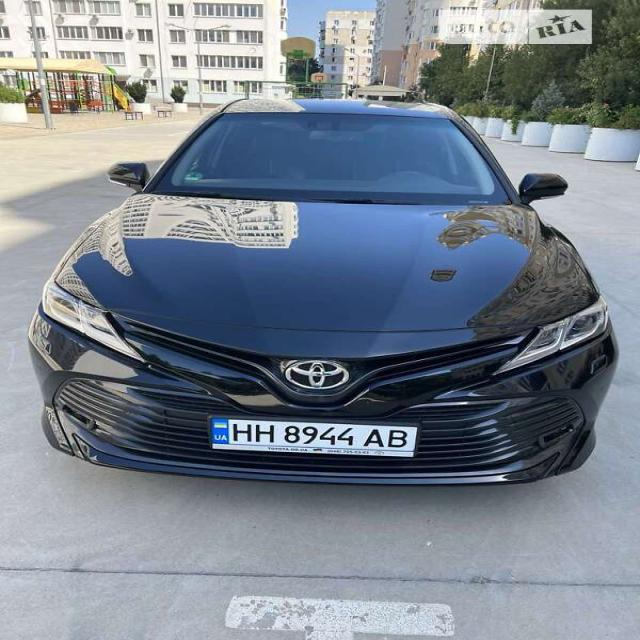plate: (204, 409, 425, 462)
